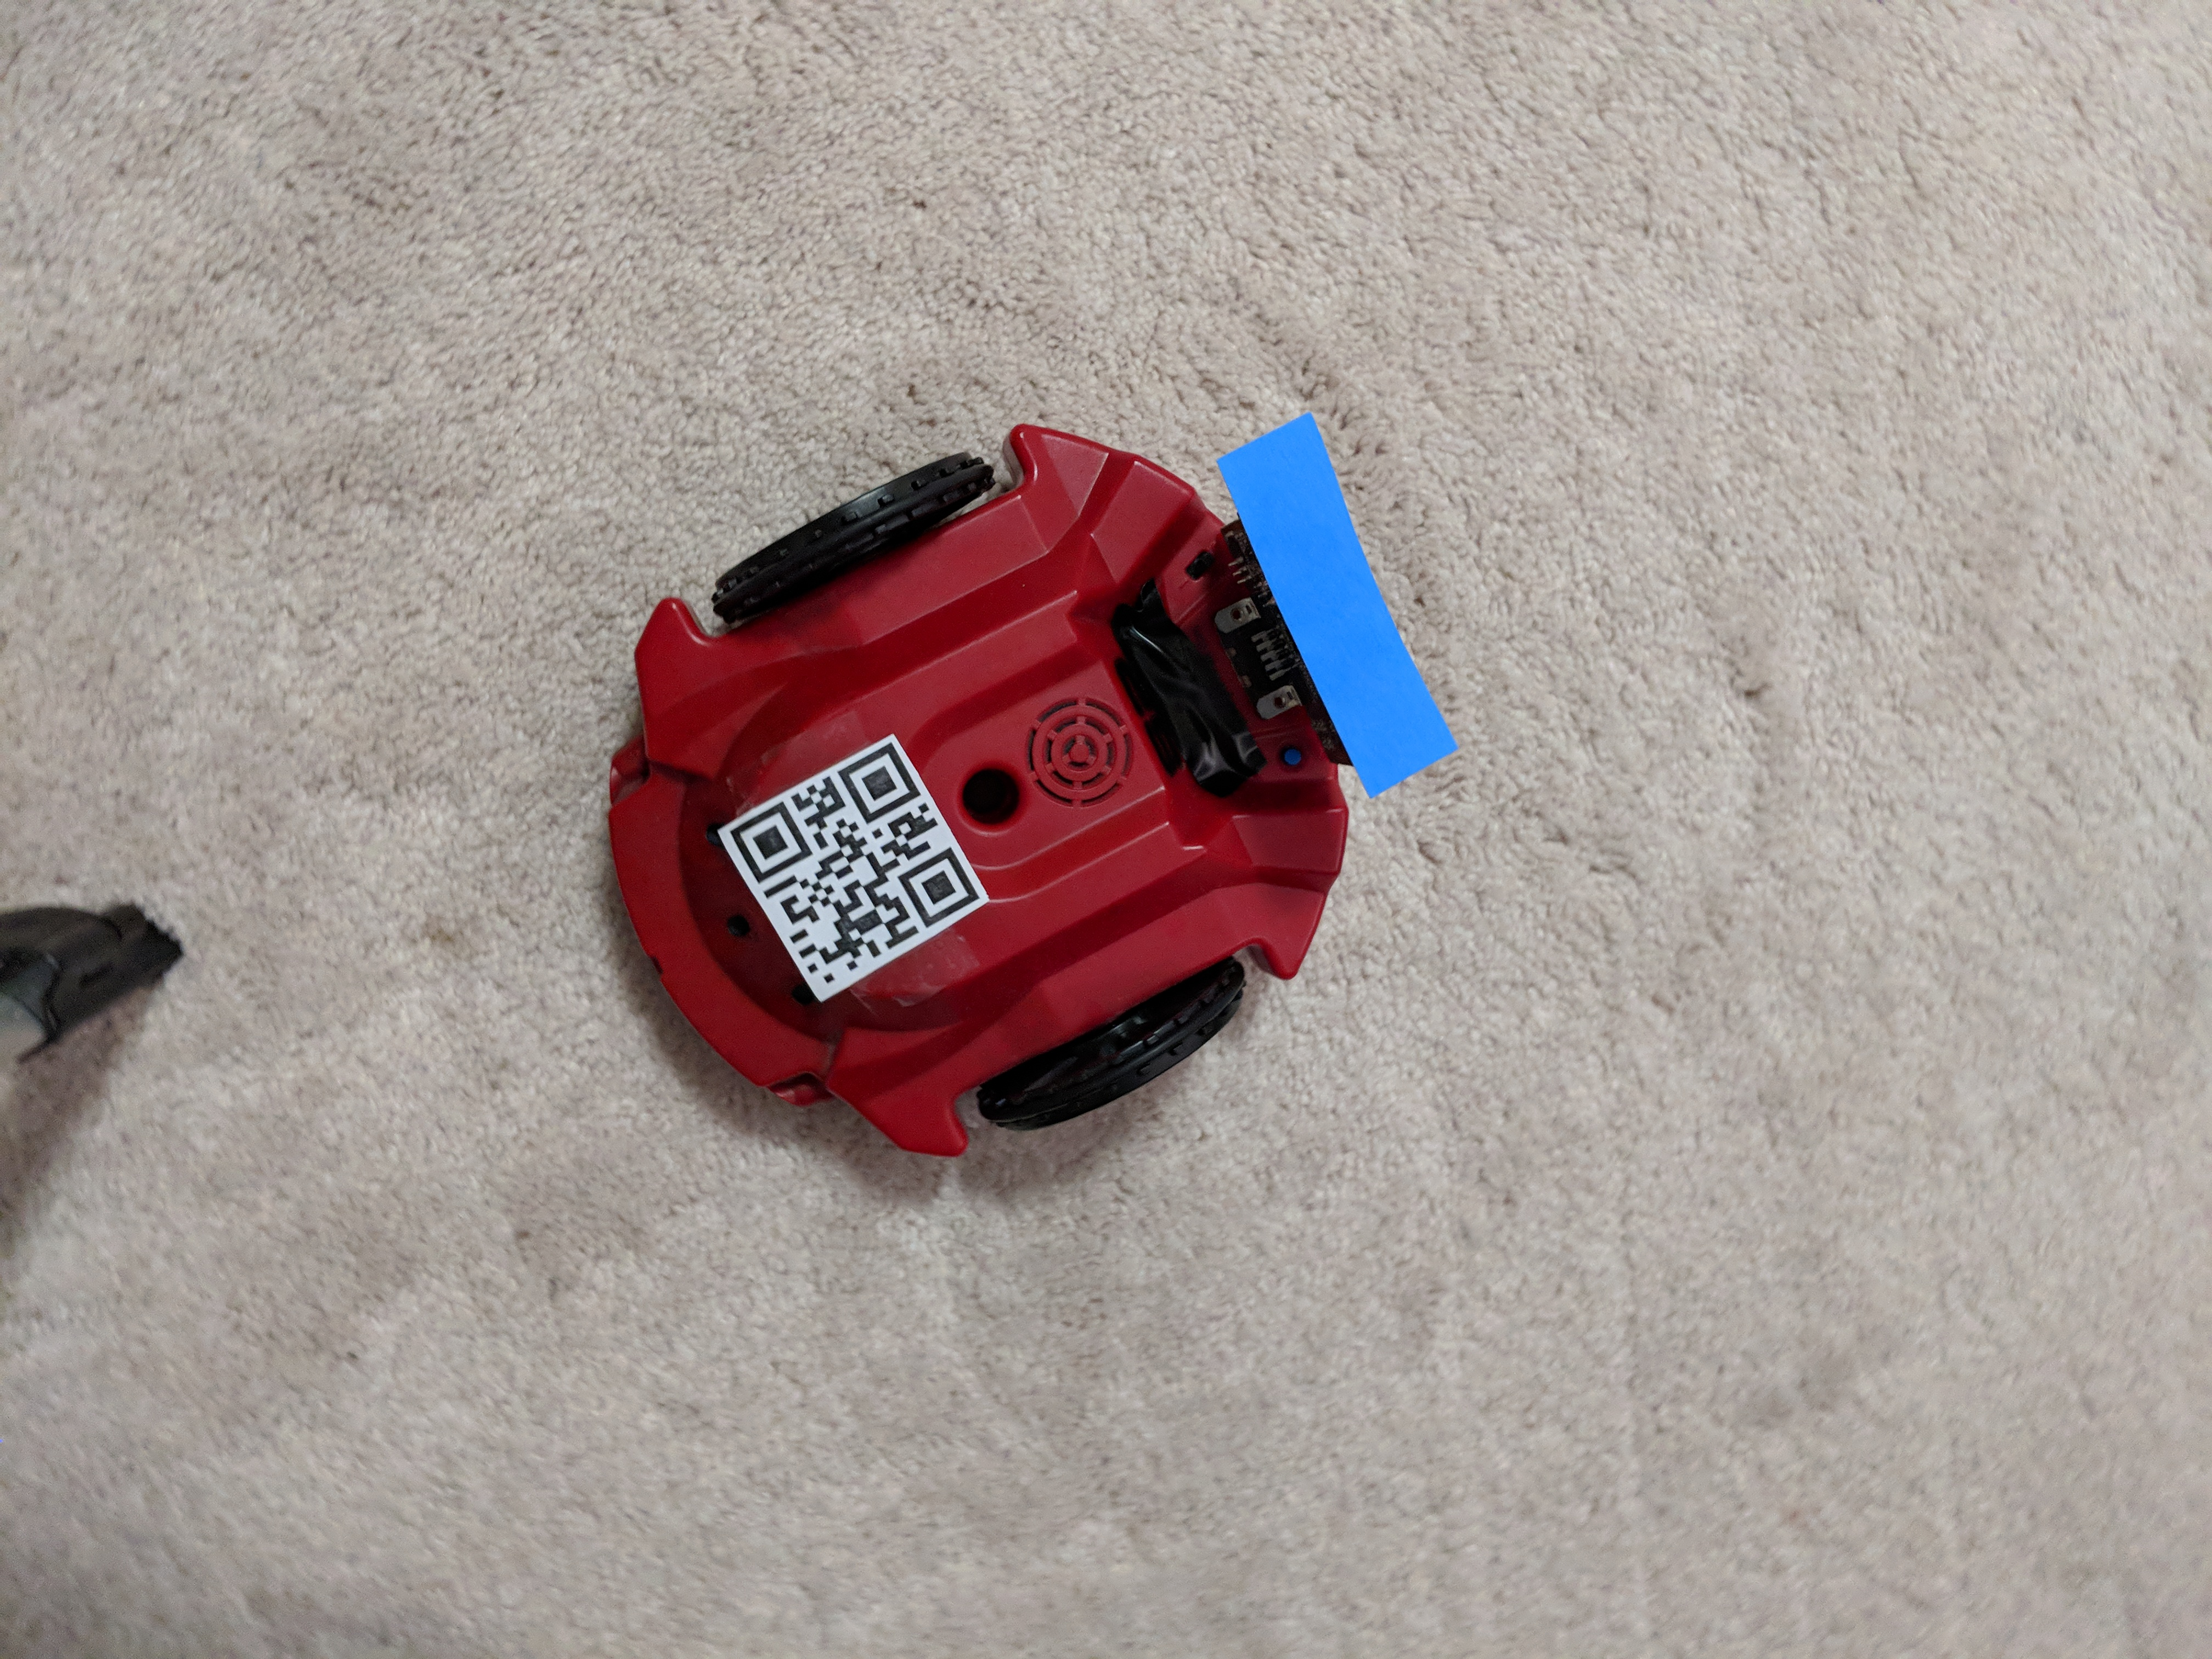chassis: (550, 373, 1461, 1223)
qr: (698, 730, 991, 1019)
